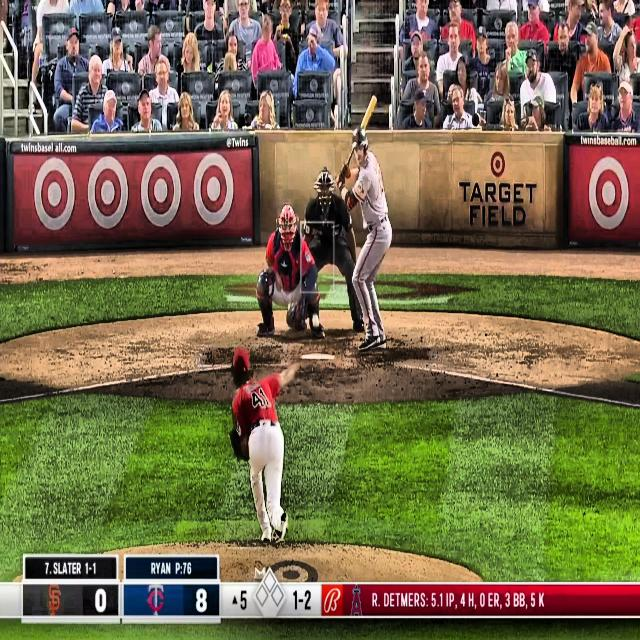baseball: (311, 313, 321, 330)
